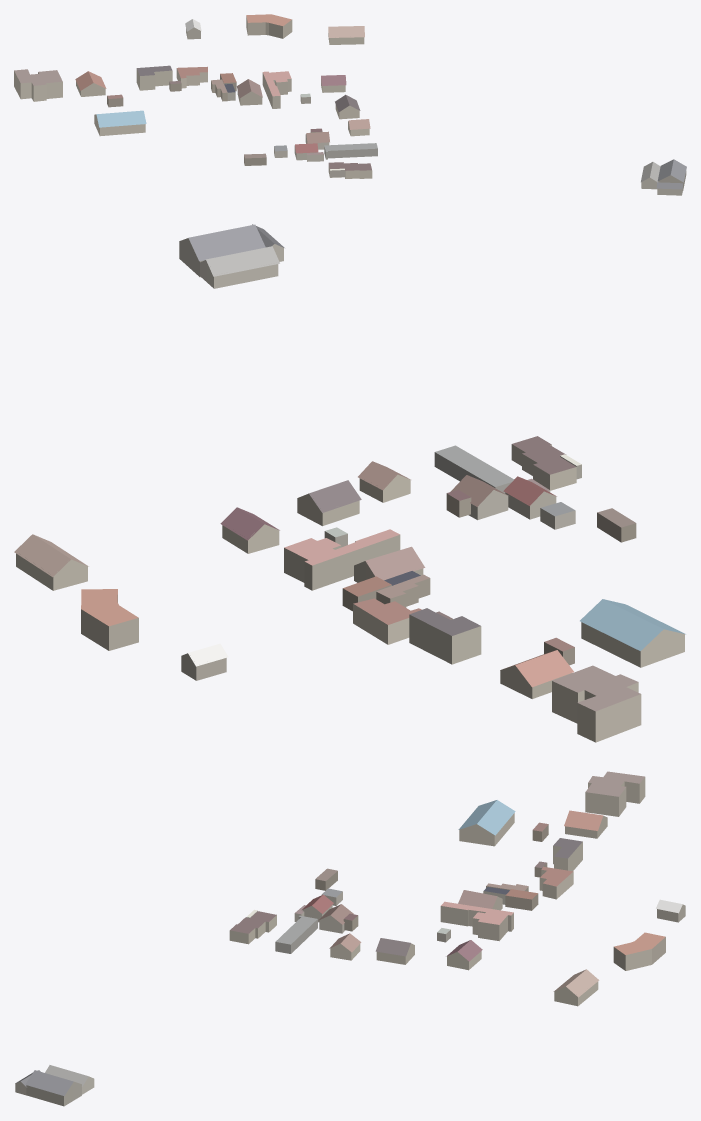
3 renders of one model, top to bottom at view 1: azimuth 30°, elevation 25°; view 2: azimuth 150°, elevation 25°; view 3: azimuth 270°, elevation 25°, orthographic. The views are drawn at different scales.
Visible parts, largest first — view 1: tuile; view 2: tuile; view 3: tuile.
Boxes of the visible parts, <box> form: tuile: <box>14,14,686,195</box>; tuile: <box>14,224,685,742</box>; tuile: <box>15,771,685,1106</box>.
Bounding box in the file's own units: 247 × 23.62 × 252.
